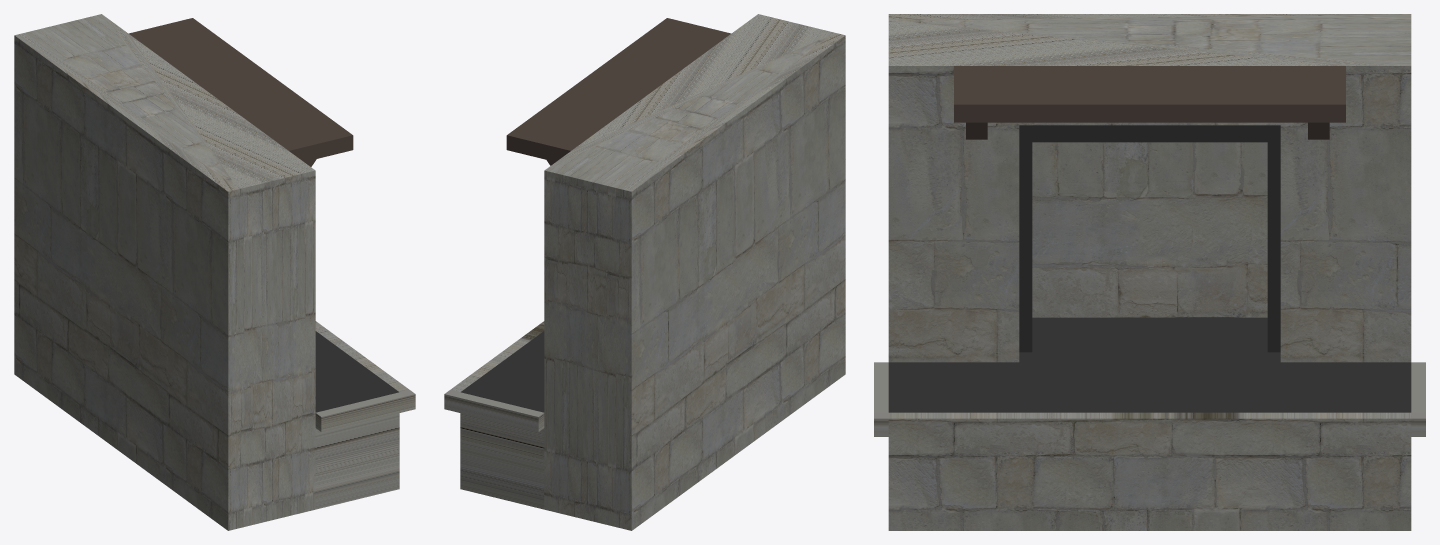
The model's file is FirePlace.fbx.
3 renders of one model, left to right at view 1: azimuth 30°, elevation 25°; view 2: azimuth 150°, elevation 25°; view 3: azimuth 270°, elevation 25°, orthographic. The views are drawn at different scales.
Parts seen in each view (by area): view 1: pCube24; view 2: pCube24; view 3: pCube24.
Boxes of the visible parts, x1=… form: pCube24: x1=14, y1=14, x2=415, y2=530; pCube24: x1=444, y1=14, x2=845, y2=530; pCube24: x1=874, y1=14, x2=1425, y2=530.
Bounding box in the file's own units: 5.36 × 9.56 × 11.53.
Materials: 3 (1 with a texture image).
